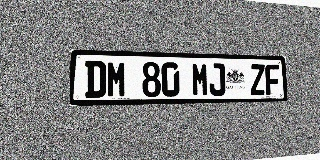0: (161, 62, 179, 97)
8: (142, 62, 161, 97)
D: (85, 60, 106, 98)
F: (265, 64, 280, 95)
J: (209, 63, 226, 96)
M: (107, 61, 127, 98), (192, 63, 209, 96)
Z: (250, 64, 265, 95)
